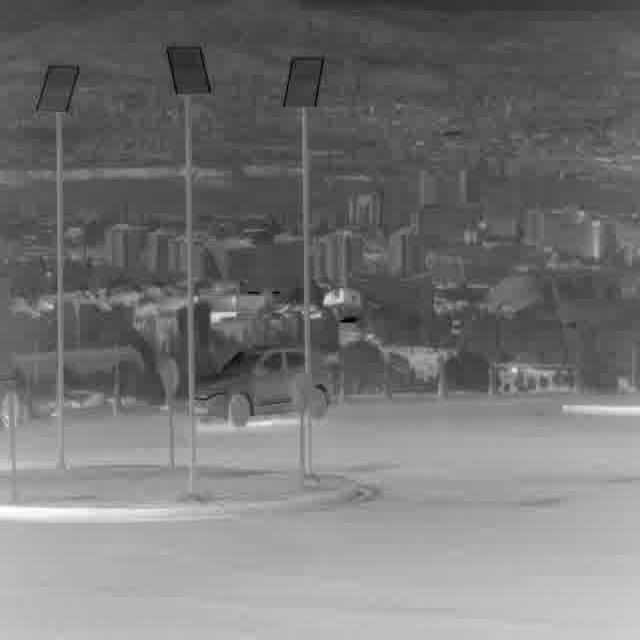Car: (194, 347, 334, 425)
